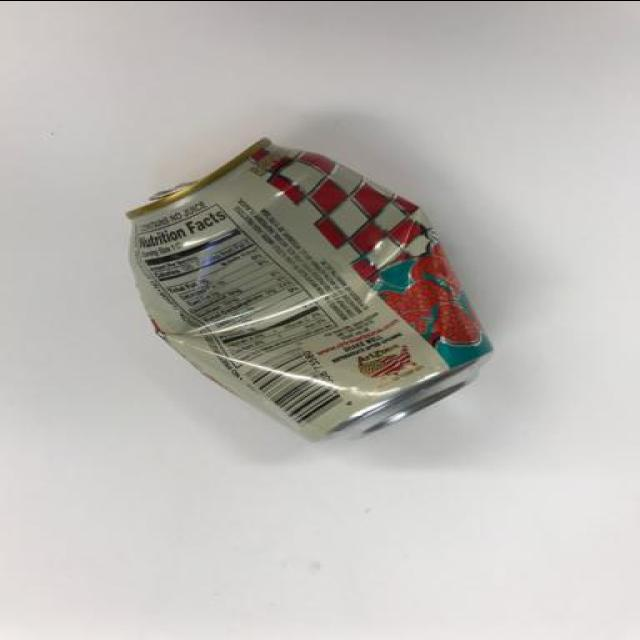litter: (70, 112, 532, 494)
